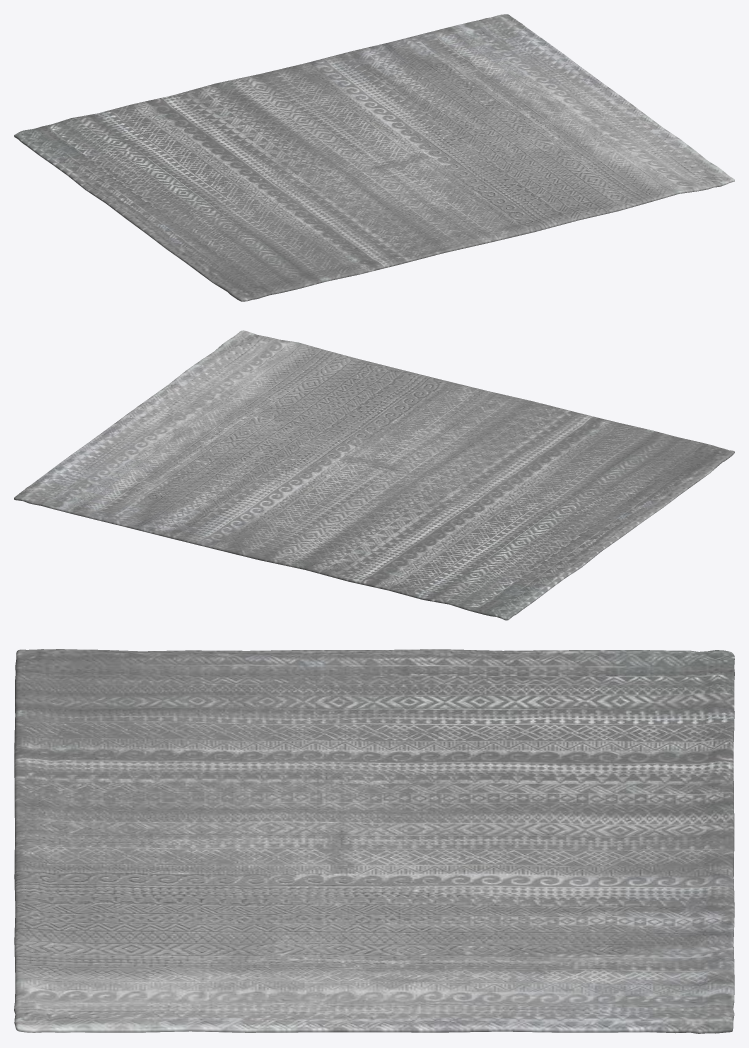
The model's file is rug_4.glb.
The picture shows the model from 3 angles, top to bottom: view 1: azimuth 30°, elevation 25°; view 2: azimuth 150°, elevation 25°; view 3: azimuth 270°, elevation 25°; orthographic projection. The views are drawn at different scales.
Visible parts, largest first — view 1: Geom3D; view 2: Geom3D; view 3: Geom3D.
Boxes of the visible parts, left/top/right/bottom form: Geom3D: left=14, top=14, right=734, bottom=301; Geom3D: left=14, top=330, right=734, bottom=620; Geom3D: left=14, top=649, right=734, bottom=1033.
Size of the model in its own units: 2.5 by 0.0286 by 2.
2 materials, 2 textured.
